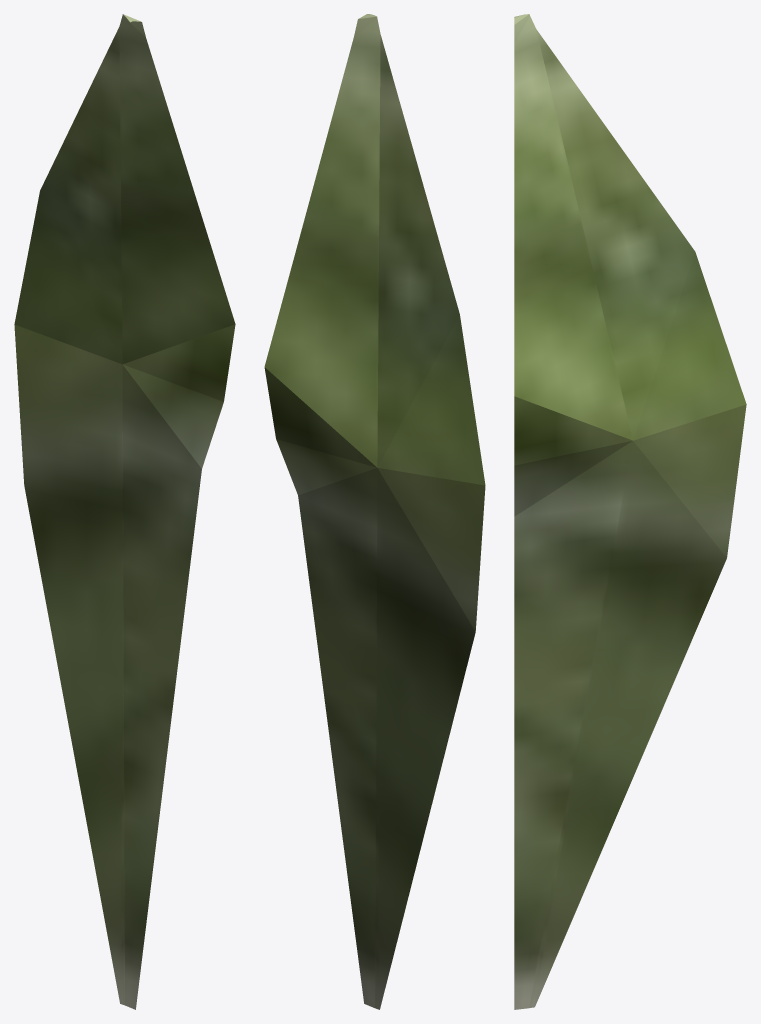
3 views of the same model, side by side, from view 1: azimuth 30°, elevation 25°; view 2: azimuth 210°, elevation 25°; view 3: azimuth 270°, elevation 25° (orthographic).
Size of the model in its own units: 0.0853 by 0.7682 by 0.1628.
1 material, 1 textured.
